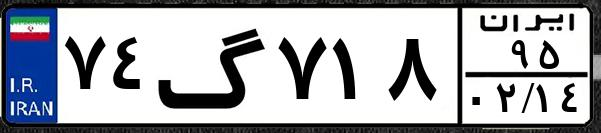0: (470, 70, 495, 125)
1: (330, 28, 385, 110), (535, 70, 560, 125)
2: (495, 70, 520, 125)
4: (110, 28, 156, 98), (560, 70, 590, 125)
5: (537, 27, 568, 80)
7: (270, 28, 330, 110), (57, 26, 110, 100)
8: (385, 28, 445, 110)
9: (508, 27, 537, 80)
گ: (156, 12, 270, 120)
